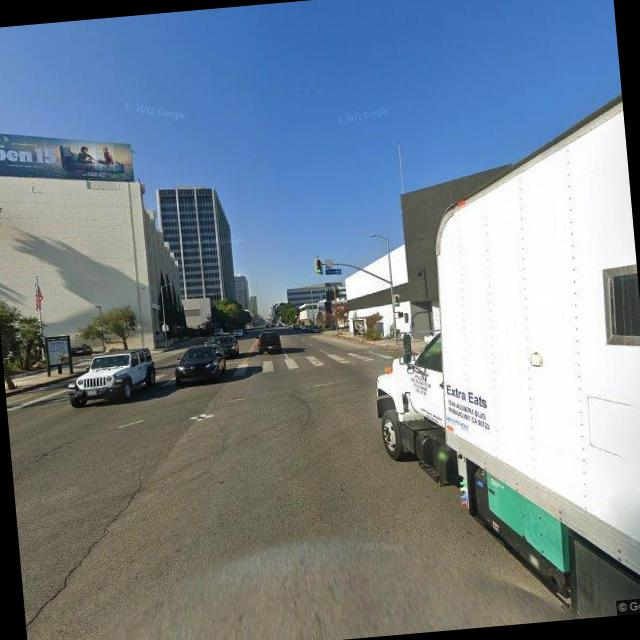pothole: (12, 461, 160, 638)
